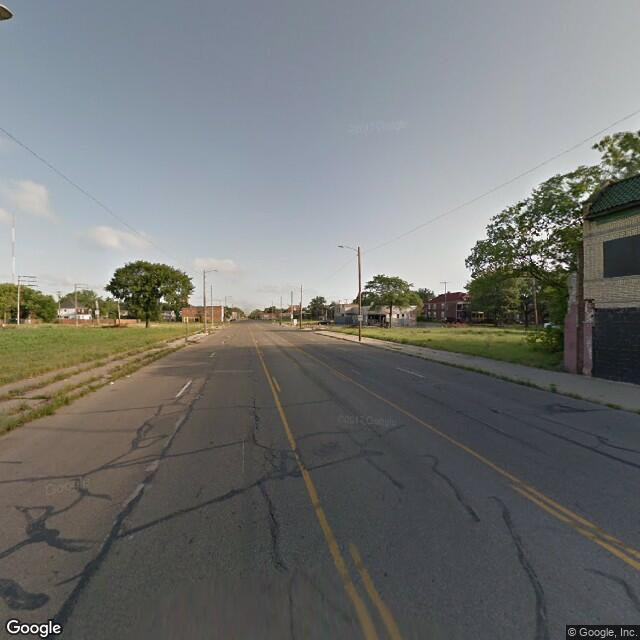litter: (125, 373, 134, 378), (109, 379, 113, 386)
